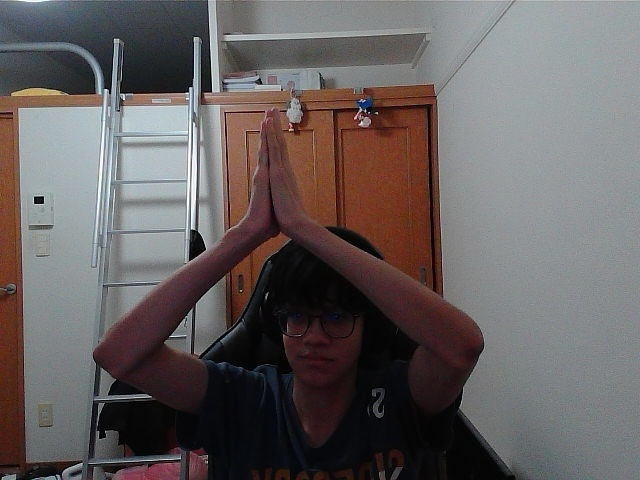pray: (272, 113, 286, 223)
